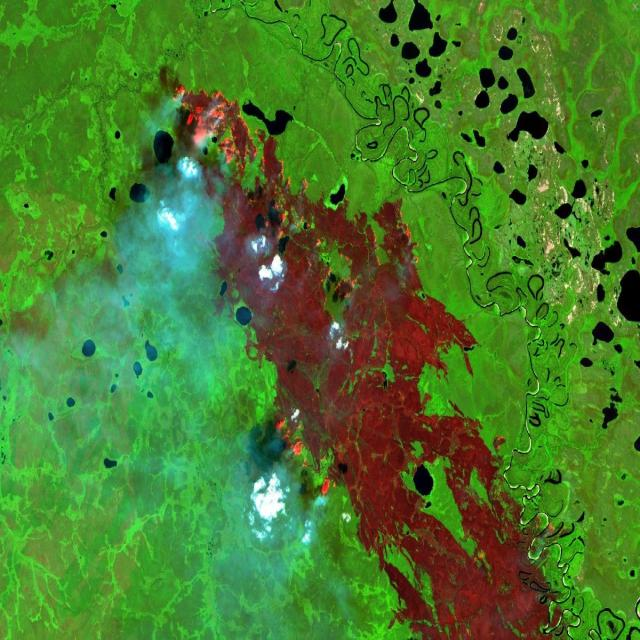fire: (170, 75, 431, 278), (271, 410, 340, 507)
